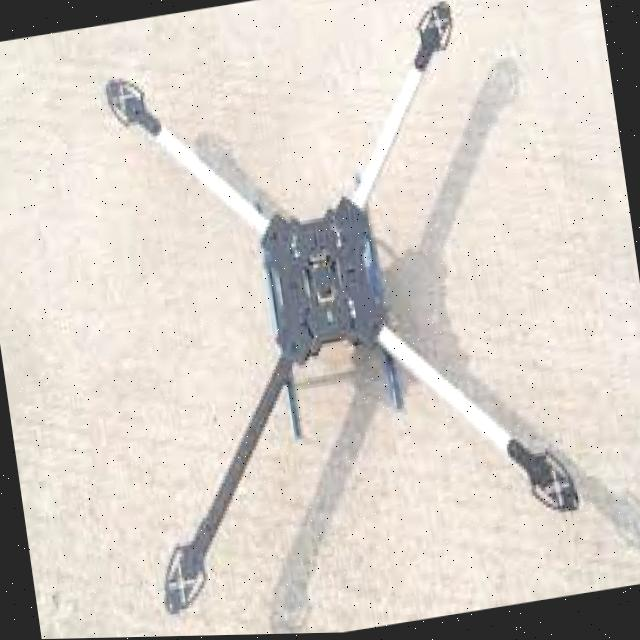drone: (96, 6, 588, 601)
